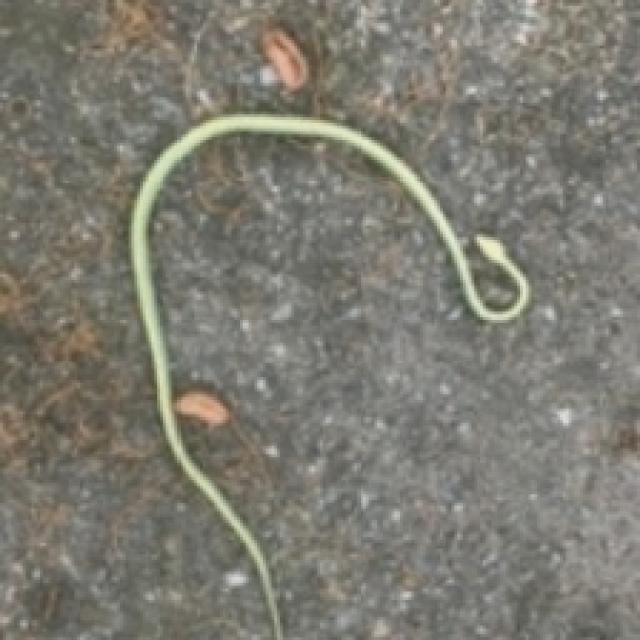paradise tree snake: (131, 114, 529, 637)
